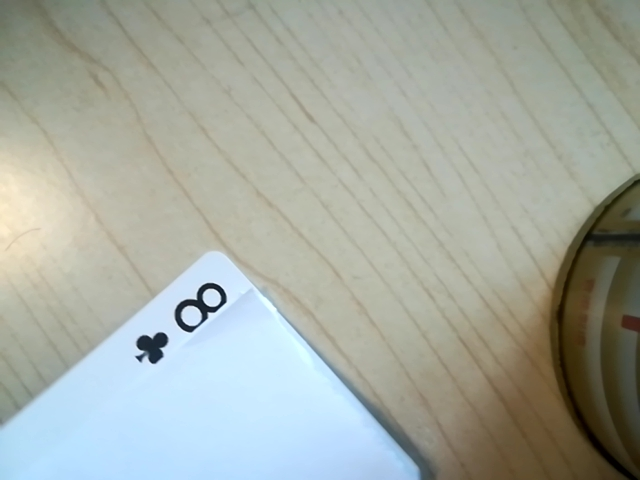mh 8: (120, 274, 238, 364)
